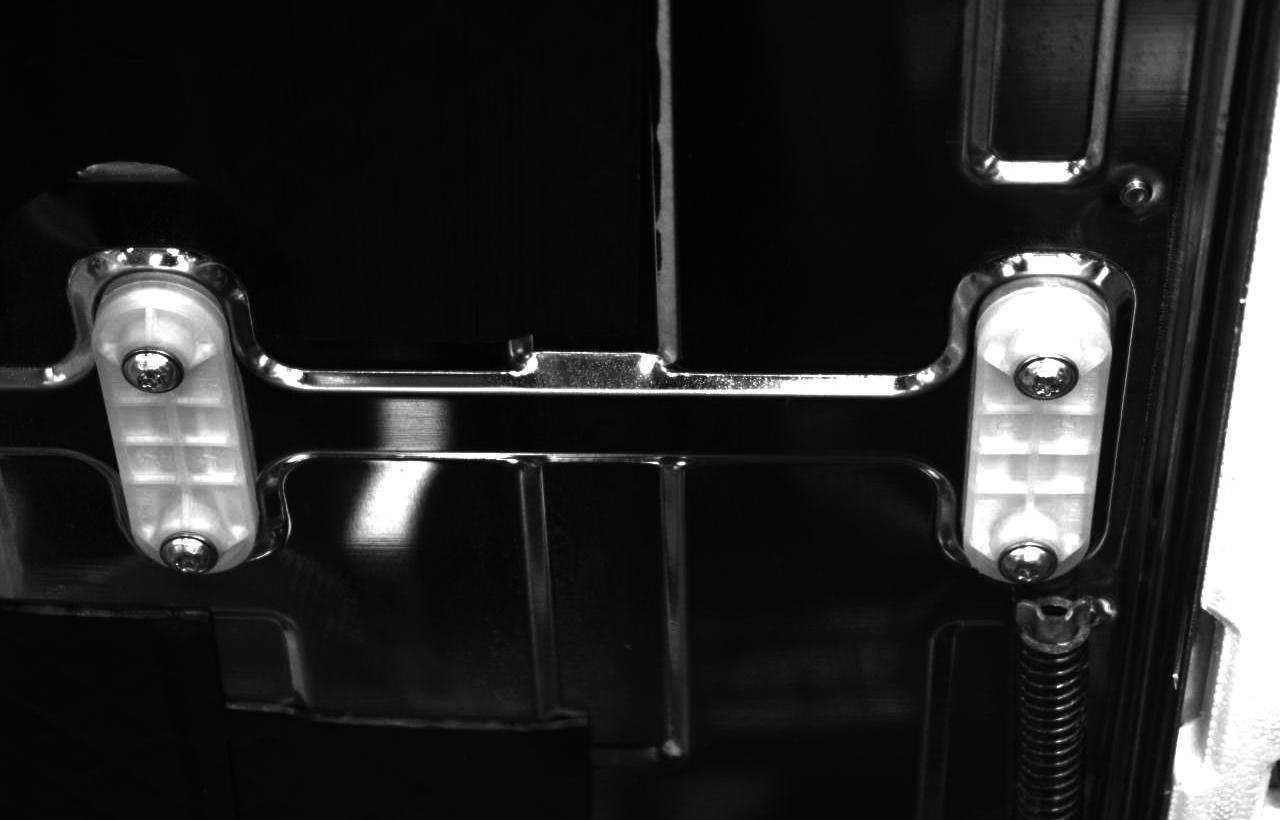vida-ok: (119, 335, 190, 402), (1014, 345, 1081, 412), (157, 522, 223, 581), (994, 532, 1060, 591)
